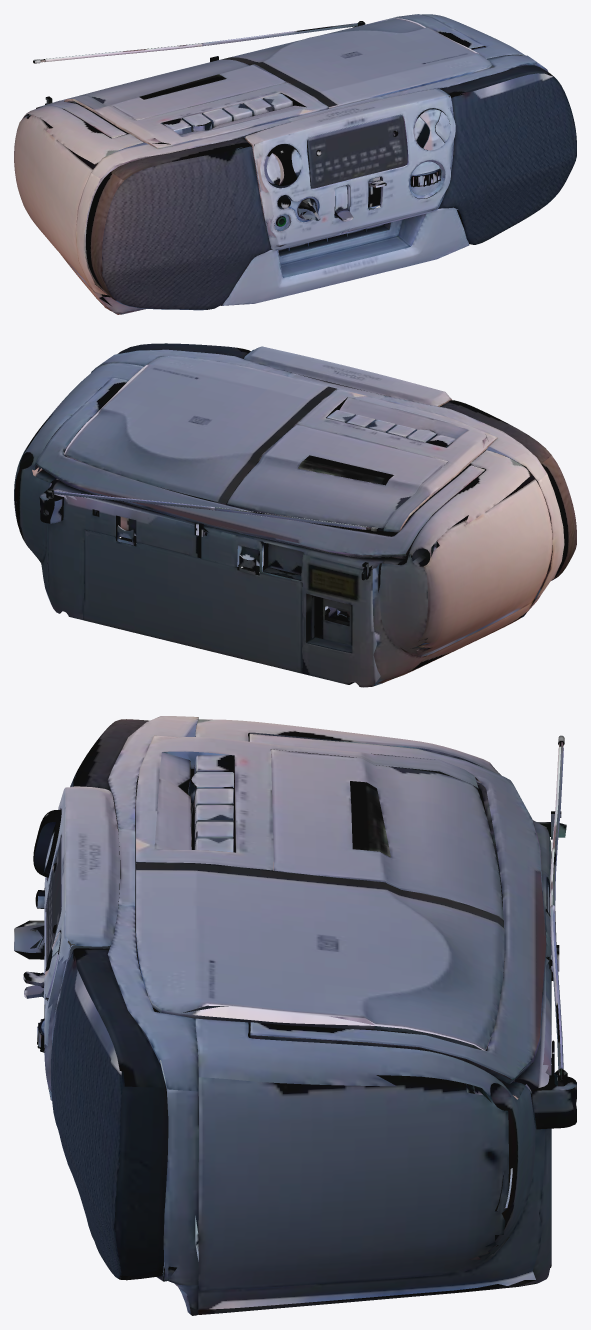
The model's file is radio-base.glb.
The picture shows the model from 3 angles, top to bottom: view 1: azimuth 30°, elevation 25°; view 2: azimuth 150°, elevation 25°; view 3: azimuth 270°, elevation 25°; orthographic projection. The views are drawn at different scales.
Parts seen in each view (by area): view 1: Radio_Imported_Part_02_base, Radio_Imported_Part_04_base, Radio_Imported_Part_06_base, Radio_Imported_Part_05_base, Radio_Imported_Part_00_base, Radio_Imported_Part_03_base, Radio_Imported_Part_01_base; view 2: Radio_Imported_Part_00_base, Radio_Imported_Part_04_base, Radio_Imported_Part_06_base, Radio_Imported_Part_03_base, Radio_Imported_Part_02_base, Radio_Imported_Part_05_base, Radio_Imported_Part_01_base; view 3: Radio_Imported_Part_00_base, Radio_Imported_Part_04_base, Radio_Imported_Part_03_base, Radio_Imported_Part_02_base, Radio_Imported_Part_06_base, Radio_Imported_Part_01_base, Radio_Imported_Part_05_base.
Part boxes in pixels (left/top/right/bottom): Radio_Imported_Part_02_base: left=86, top=65, right=576, bottom=310; Radio_Imported_Part_04_base: left=64, top=18, right=492, bottom=188; Radio_Imported_Part_06_base: left=245, top=88, right=455, bottom=250; Radio_Imported_Part_05_base: left=33, top=22, right=469, bottom=305; Radio_Imported_Part_00_base: left=14, top=14, right=525, bottom=311; Radio_Imported_Part_03_base: left=36, top=14, right=548, bottom=314; Radio_Imported_Part_01_base: left=139, top=74, right=440, bottom=221; Radio_Imported_Part_00_base: left=14, top=363, right=552, bottom=687; Radio_Imported_Part_04_base: left=64, top=356, right=497, bottom=532; Radio_Imported_Part_06_base: left=83, top=346, right=451, bottom=673; Radio_Imported_Part_03_base: left=35, top=349, right=564, bottom=617; Radio_Imported_Part_02_base: left=96, top=343, right=576, bottom=580; Radio_Imported_Part_05_base: left=51, top=490, right=378, bottom=531; Radio_Imported_Part_01_base: left=298, top=455, right=393, bottom=485; Radio_Imported_Part_00_base: left=195, top=719, right=576, bottom=1314; Radio_Imported_Part_04_base: left=46, top=735, right=504, bottom=1050; Radio_Imported_Part_03_base: left=107, top=716, right=546, bottom=1315; Radio_Imported_Part_02_base: left=51, top=719, right=554, bottom=1280; Radio_Imported_Part_06_base: left=44, top=786, right=120, bottom=1100; Radio_Imported_Part_01_base: left=14, top=781, right=390, bottom=1052; Radio_Imported_Part_05_base: left=43, top=735, right=564, bottom=1137.
Bounding box in the file's own units: 0.56 × 0.2004 × 0.34.
1 material, 1 textured.
